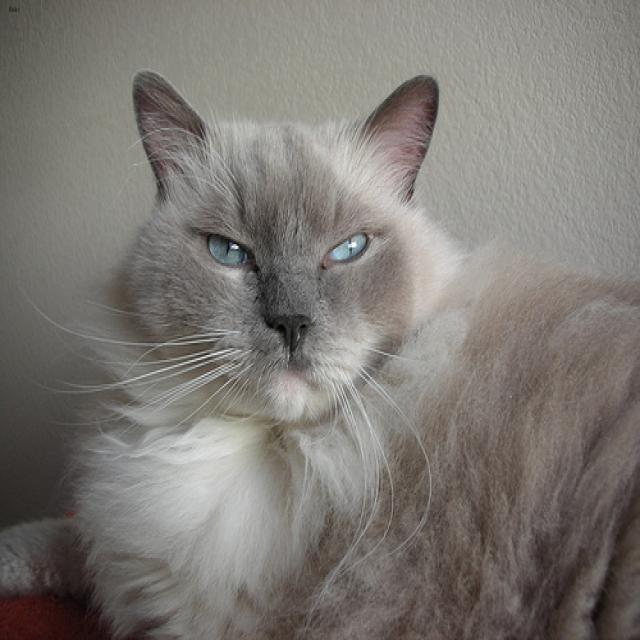Ragdoll: (131, 69, 437, 417)
